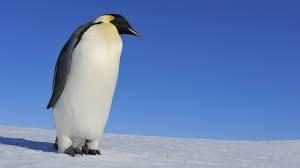emporer: (31, 6, 146, 156)
